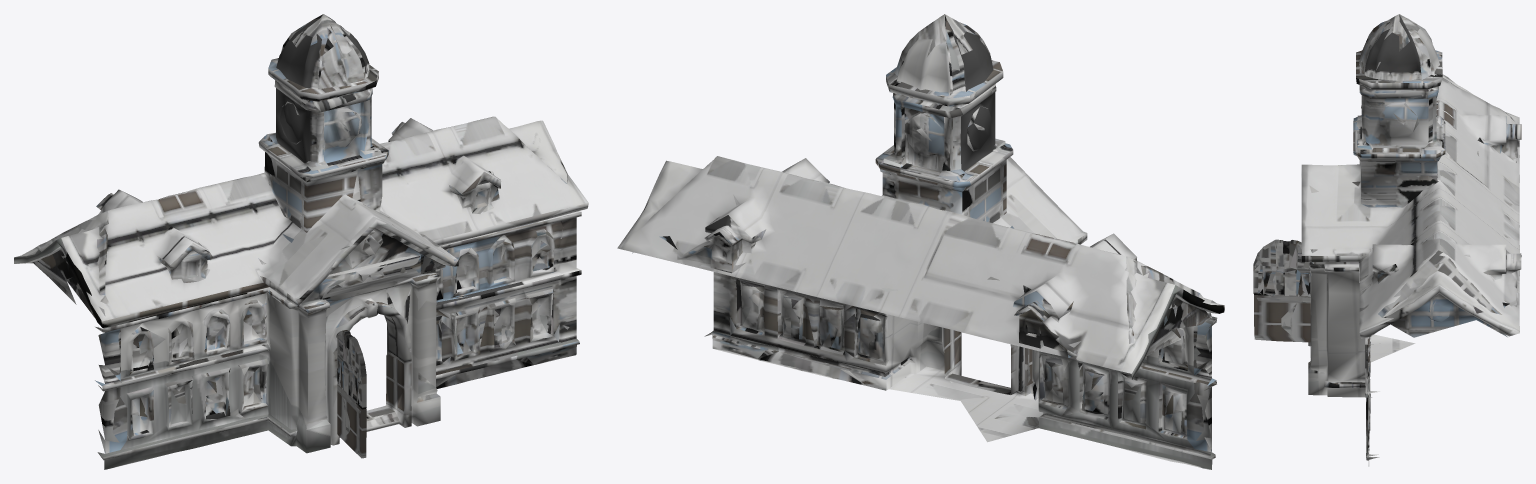
File: okulGiris.fbx
3 views of the same model, side by side, from view 1: azimuth 30°, elevation 25°; view 2: azimuth 150°, elevation 25°; view 3: azimuth 270°, elevation 25° (orthographic). The views are drawn at different scales.
Visible parts, largest first — view 1: Mesh_0, Mesh_0.001; view 2: Mesh_0; view 3: Mesh_0, Mesh_0.001.
Boxes of the visible parts, bbox=[...] form: Mesh_0: bbox=[14, 14, 588, 469]; Mesh_0.001: bbox=[336, 330, 366, 458]; Mesh_0: bbox=[617, 14, 1224, 469]; Mesh_0: bbox=[1301, 14, 1521, 466]; Mesh_0.001: bbox=[1253, 239, 1310, 342].
Size of the model in its own units: 191 by 145 by 101.
